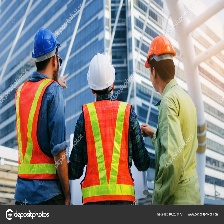helmet: (85, 54, 118, 89), (143, 36, 180, 65), (27, 27, 58, 57)
no-vest: (157, 92, 203, 199)
person: (140, 30, 204, 201), (74, 52, 145, 201), (14, 28, 72, 201)
vest: (77, 98, 136, 204), (16, 77, 64, 179)
